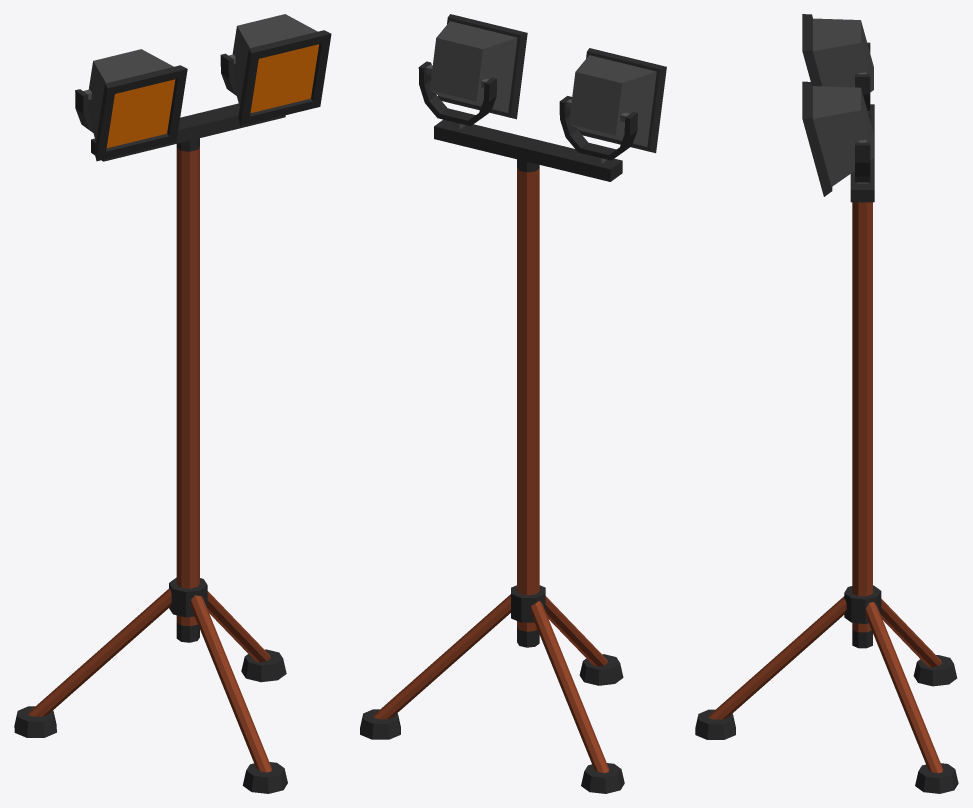
The model's file is Light_02.fbx.
3 views of the same model, side by side, from view 1: azimuth 30°, elevation 25°; view 2: azimuth 150°, elevation 25°; view 3: azimuth 270°, elevation 25° (orthographic). The views are drawn at different scales.
Visible parts, largest first — view 1: Light_02; view 2: Light_02; view 3: Light_02.
Boxes of the visible parts, x1,y1,x2,y2 form: Light_02: [14, 14, 331, 793]; Light_02: [360, 14, 666, 793]; Light_02: [695, 14, 958, 793].
Size of the model in its own units: 60.92 by 150 by 53.79.
